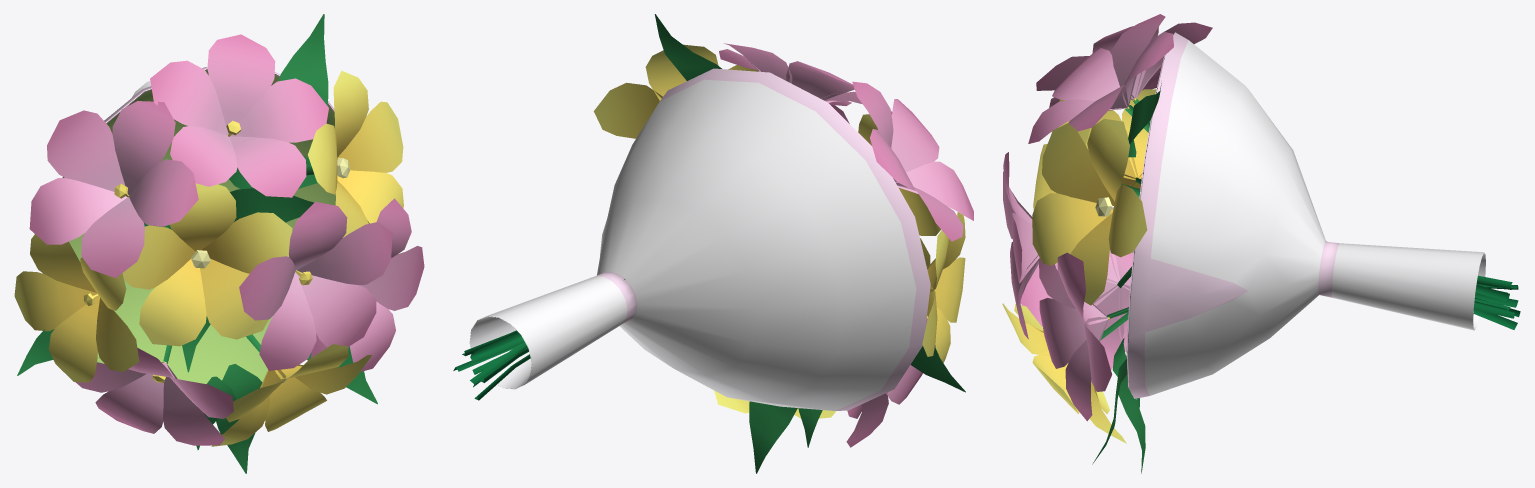
The model's file is 2_flower_0001.fbx.
3 views of the same model, side by side, from view 1: azimuth 30°, elevation 25°; view 2: azimuth 150°, elevation 25°; view 3: azimuth 270°, elevation 25° (orthographic). The views are drawn at different scales.
Parts seen in each view (by area): view 1: flower_0002_forMap; view 2: flower_0002_forMap; view 3: flower_0002_forMap.
Part boxes in pixels (x1,y1,x2,y2): flower_0002_forMap: (14,14,424,473); flower_0002_forMap: (453,14,973,473); flower_0002_forMap: (1002,14,1520,473).
Size of the model in its own units: 23.47 by 25.45 by 27.26.
Materials: 1 (1 with a texture image).
